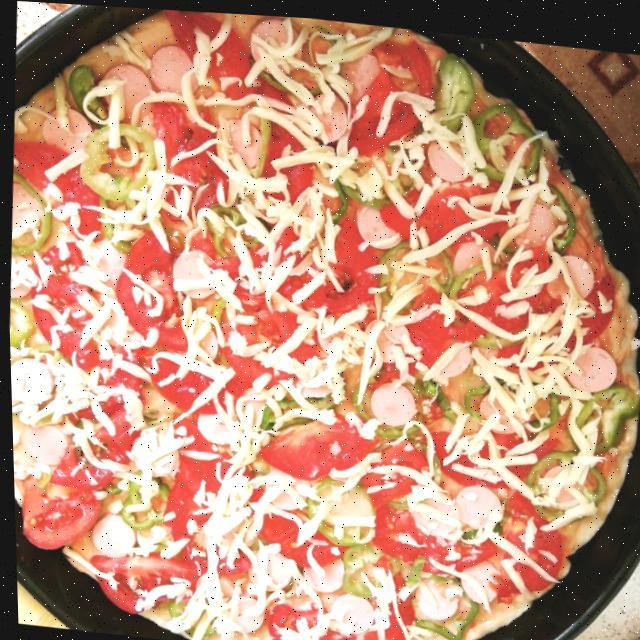pizza: (0, 0, 640, 640)
tomatoes: (402, 226, 549, 349), (326, 23, 438, 159), (232, 461, 348, 567), (19, 236, 106, 369), (141, 95, 230, 223), (108, 223, 193, 357), (376, 163, 512, 246), (278, 202, 378, 313), (156, 408, 236, 546), (250, 401, 381, 485), (40, 392, 145, 493), (8, 141, 107, 243), (212, 297, 318, 390), (83, 541, 205, 620), (364, 500, 496, 572), (153, 7, 254, 100), (424, 420, 559, 487), (134, 346, 255, 419), (490, 480, 565, 594), (252, 77, 316, 207), (12, 464, 104, 554), (66, 341, 142, 430), (164, 503, 250, 571), (194, 233, 272, 304), (360, 430, 431, 507), (351, 562, 414, 640), (259, 595, 356, 640)
